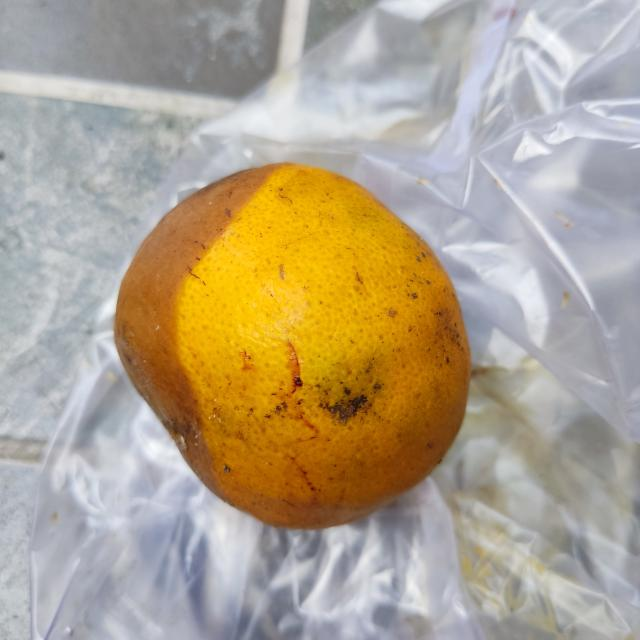orange: (107, 161, 477, 533)
